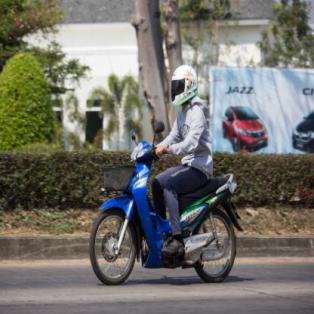Motocicleta: (85, 126, 243, 282)
